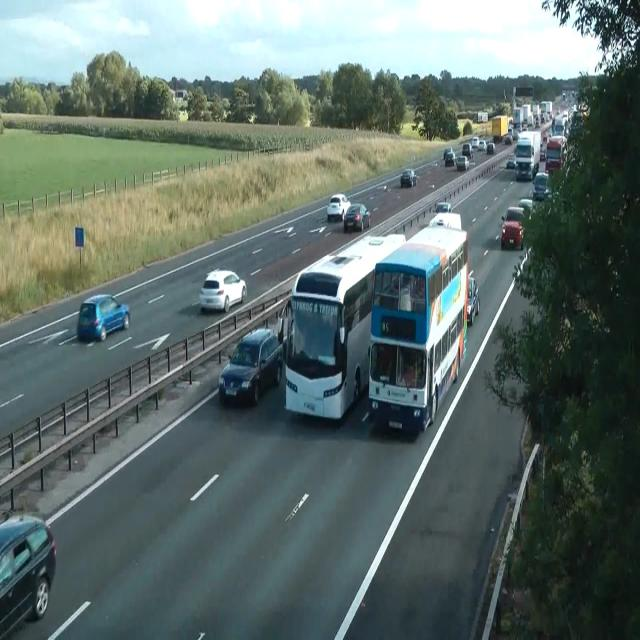bus: (0, 513, 56, 638), (77, 294, 131, 342), (198, 267, 246, 313), (343, 203, 371, 232), (276, 298, 291, 344), (466, 274, 479, 326), (326, 193, 350, 221), (428, 212, 462, 230), (501, 206, 525, 224), (518, 197, 535, 218), (400, 168, 416, 188), (444, 147, 456, 166), (456, 154, 470, 170), (434, 201, 452, 213), (461, 143, 473, 159), (506, 154, 515, 169), (486, 141, 495, 155), (503, 134, 513, 145), (478, 139, 487, 150), (471, 136, 479, 148)
car: (278, 232, 406, 423), (367, 223, 469, 433)
jeep: (218, 326, 283, 406), (501, 205, 525, 249), (532, 171, 548, 200)
minibus: (514, 130, 541, 180), (545, 135, 567, 174), (492, 114, 508, 141), (477, 111, 488, 123)
